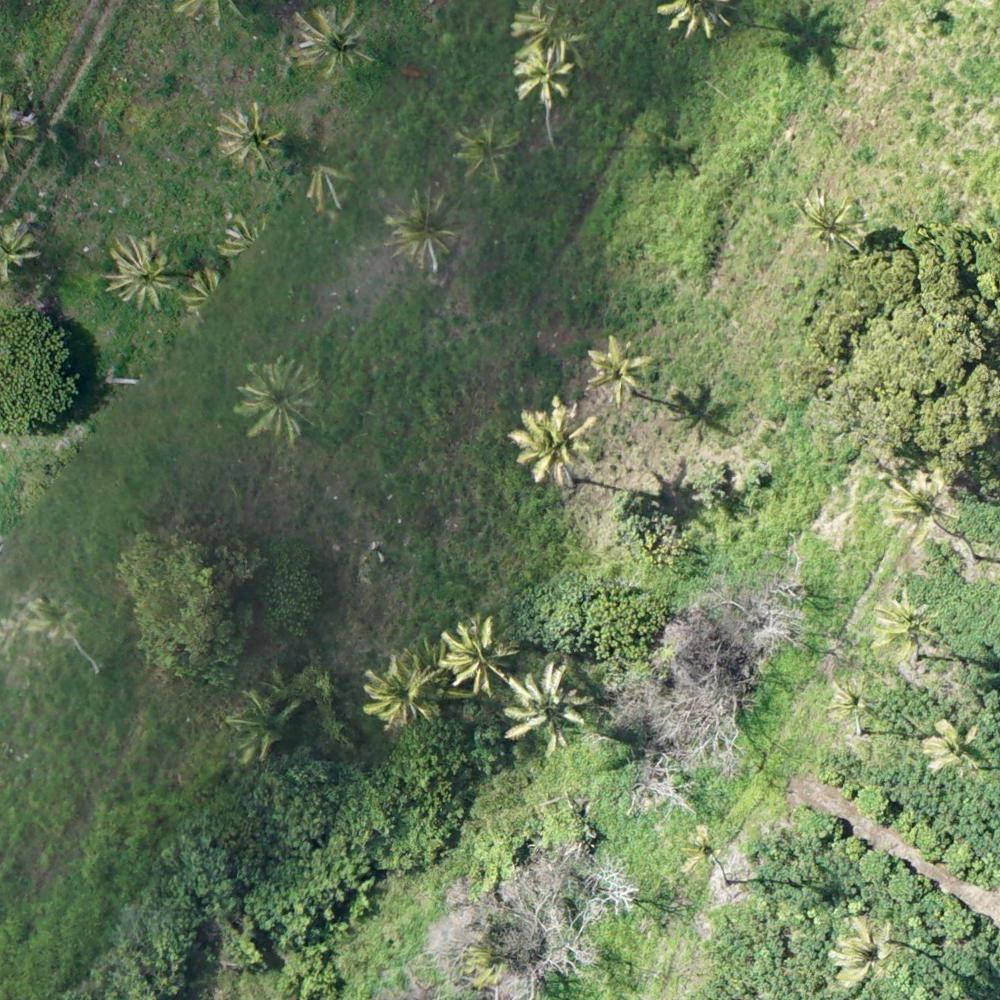Palm: (515, 401, 605, 489), (234, 358, 316, 446), (506, 666, 588, 752), (439, 615, 516, 696), (889, 468, 964, 544), (828, 911, 900, 990), (288, 7, 370, 75), (363, 655, 438, 726), (389, 192, 458, 267), (109, 236, 175, 310), (874, 589, 943, 658), (215, 105, 287, 171), (789, 185, 858, 252), (918, 716, 990, 778), (582, 343, 647, 402), (456, 119, 516, 179), (515, 52, 574, 100), (823, 678, 882, 726), (678, 821, 731, 869)
